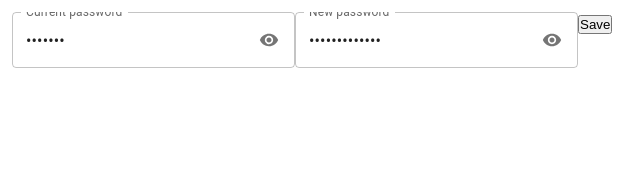
Test: PasswordField › shows and hides its own field only, and never submits the form
What coordinates should you click on to do the following:
click the button named "password" below "New password"
I would click on:
 (552, 40)
Its box is [537, 25, 567, 55].
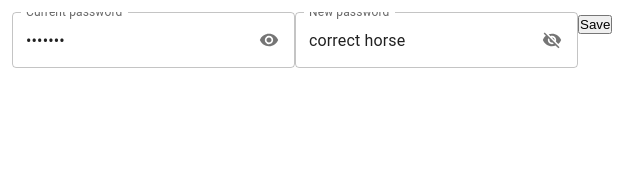
Now the field labelled "New password" shows its text, box [295, 12, 529, 68]
What coordinates should you click on to do the following:
click the button named "password" below "New password"
I would click on:
 (552, 40)
Its box is [537, 25, 567, 55].
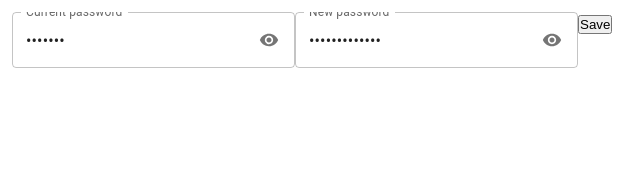
Now the password field labelled "New password" hides its text, box [295, 12, 529, 68]
